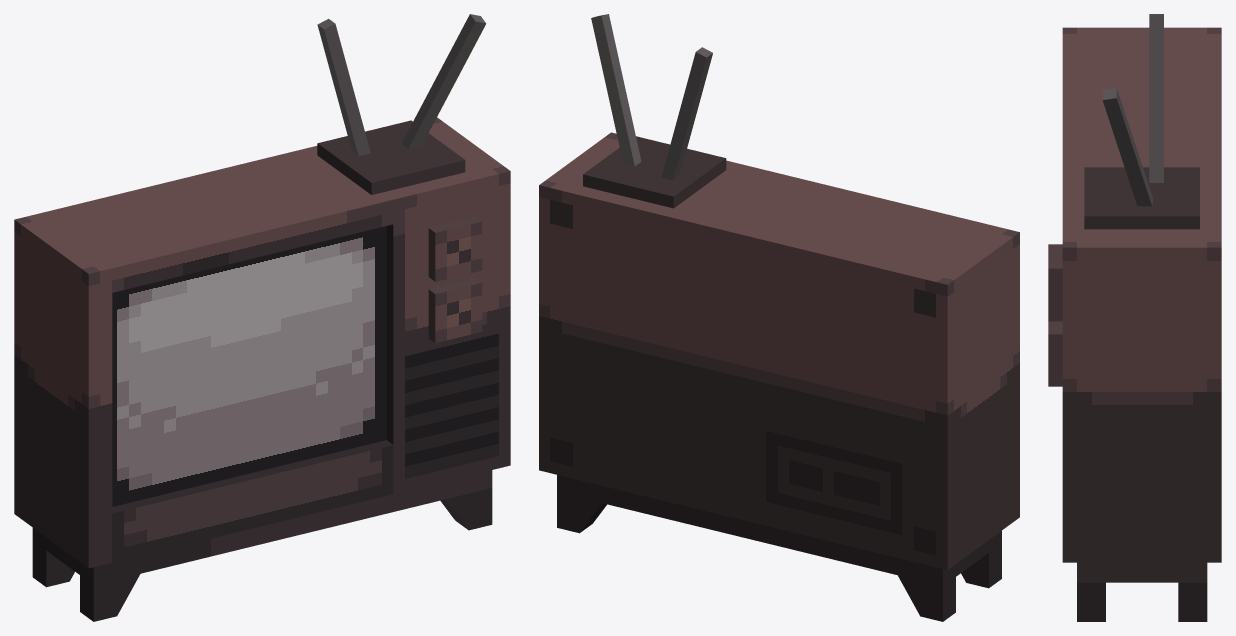
Rendered from retroTv.glb.
3 views of the same model, side by side, from view 1: azimuth 30°, elevation 25°; view 2: azimuth 150°, elevation 25°; view 3: azimuth 270°, elevation 25° (orthographic). The views are drawn at different scales.
Parts seen in each view (by area): view 1: Screen_0, Box_1, Frame 1_3, Frame 3_5, Frame 2_4, Frame 4_6, Base_2, cube_13, cube_11, cube_12, cube_15, cube_14 (+3 smaller); view 2: Box_1, Base_2, Frame 2_4, cube_13, Frame 4_6, cube_15, cube_14, Leg 1_7, Leg 4_10, Leg 2_8, Frame 3_5; view 3: Box_1, Frame 1_3, Frame 2_4, cube_13, Base_2, cube_14, cube_15, Leg 4_10, cube_11, Leg 3_9, cube_12.
Part boxes in pixels (<box>): Screen_0: <box>112,226,386,506</box>; Box_1: <box>14,117,489,552</box>; Frame 1_3: <box>384,156,510,493</box>; Frame 3_5: <box>68,440,393,568</box>; Frame 2_4: <box>68,187,393,298</box>; Frame 4_6: <box>68,284,112,519</box>; Base_2: <box>32,470,492,584</box>; cube_13: <box>317,120,465,194</box>; cube_11: <box>428,216,482,281</box>; cube_12: <box>428,278,482,343</box>; cube_15: <box>401,14,486,148</box>; cube_14: <box>317,18,370,155</box>; Box_1: <box>539,147,1000,569</box>; Base_2: <box>557,475,1001,586</box>; Frame 2_4: <box>717,160,1019,269</box>; cube_13: <box>583,136,726,208</box>; Frame 4_6: <box>1000,256,1019,483</box>; cube_15: <box>591,14,641,166</box>; cube_14: <box>661,47,712,180</box>; Leg 1_7: <box>898,575,955,621</box>; Leg 4_10: <box>557,492,606,533</box>; Leg 2_8: <box>961,543,1001,588</box>; Frame 3_5: <box>1000,470,1019,531</box>; Box_1: <box>1106,27,1221,562</box>; Frame 1_3: <box>1062,186,1105,562</box>; Frame 2_4: <box>1062,27,1105,186</box>; cube_13: <box>1084,167,1199,229</box>; Base_2: <box>1077,562,1207,582</box>; cube_14: <box>1149,14,1163,182</box>; cube_15: <box>1102,87,1153,206</box>; Leg 4_10: <box>1178,582,1207,621</box>; cube_11: <box>1048,244,1062,321</box>; Leg 3_9: <box>1077,582,1105,621</box>; cube_12: <box>1048,321,1062,386</box>.
Bounding box in the file's own units: 1.12 × 1.29 × 0.375.
Materials: 1 (1 with a texture image).
